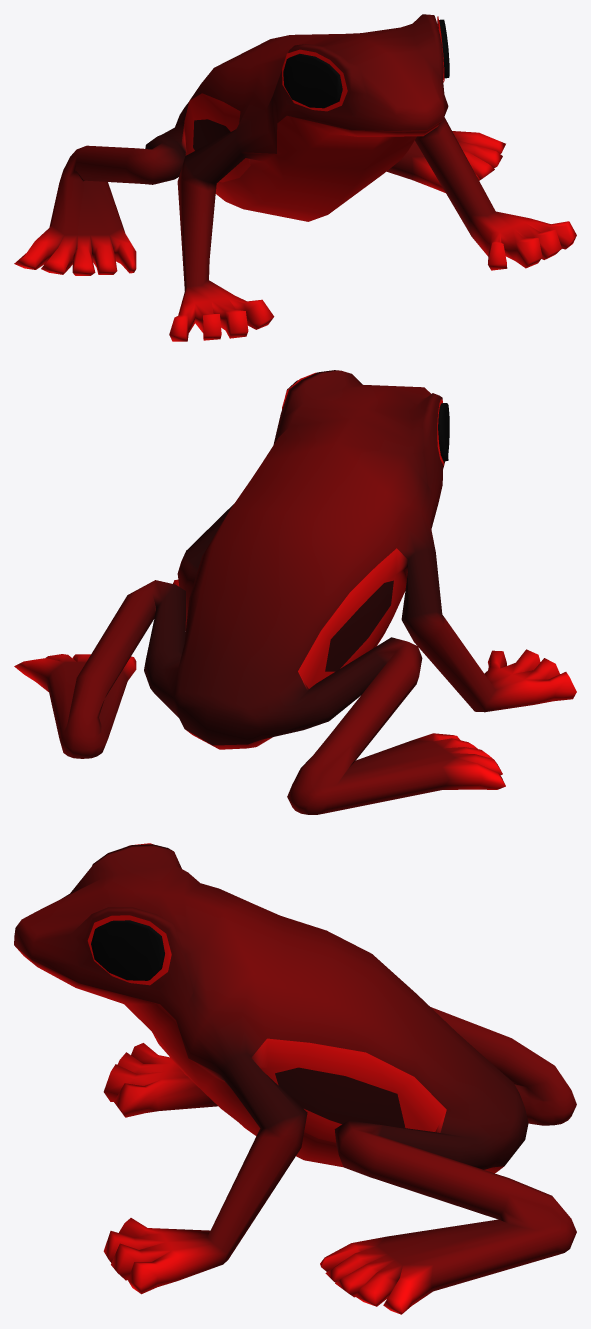
File: Amphibians_RedEyedTreeFrog.fbx
3 views of the same model, one above another, from view 1: azimuth 30°, elevation 25°; view 2: azimuth 150°, elevation 25°; view 3: azimuth 270°, elevation 25° (orthographic). The views are drawn at different scales.
Parts seen in each view (by area): view 1: RedEyedTreeFrog; view 2: RedEyedTreeFrog; view 3: RedEyedTreeFrog.
Part boxes in pixels (x1,y1,x2,y2): RedEyedTreeFrog: [14, 14, 576, 341]; RedEyedTreeFrog: [14, 370, 576, 814]; RedEyedTreeFrog: [14, 843, 576, 1314].
Size of the model in its own units: 115 by 58.37 by 98.13.
